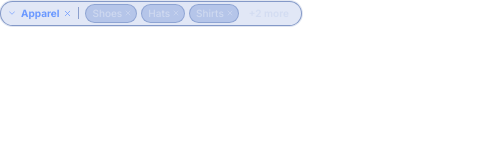
Scenario: ChipCluster > expanded › clicking +N twice toggles popover closed
This screenshot has width=493, height=160.
Click the button "+2 more" at (269, 13), box [243,4,295,22]
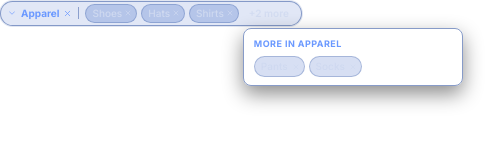
Click the button "+2 more" at (269, 13), box [243,4,295,22]
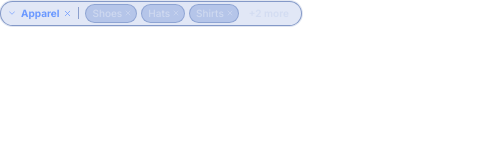
Check: the text "Pants" is gone
